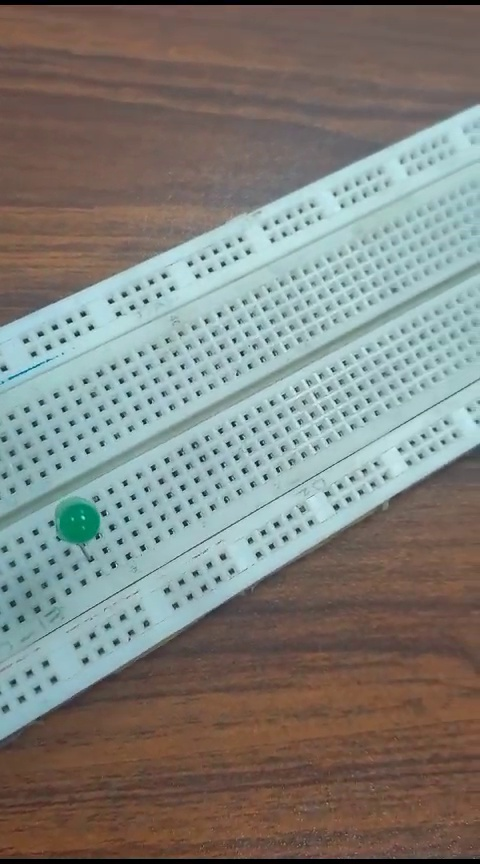LED: (52, 489, 100, 563)
